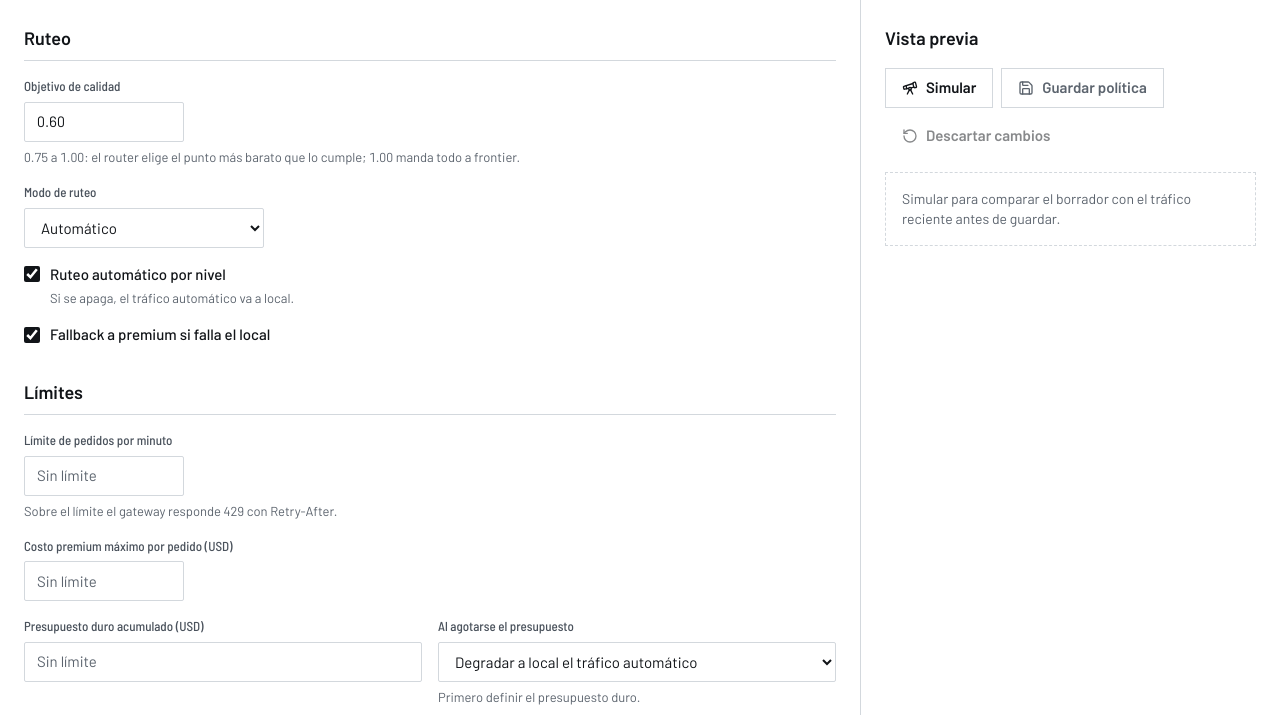
Test: policy-form › shows a stored target below the console's range as it is and blocks saving it
Expected: the field labelled "Objetivo de calidad" holds "0.60", [24,102,184,142]
Click the checkbox labelled "Fallback a premium si falla el local" at (32,335), box [24,327,40,343]
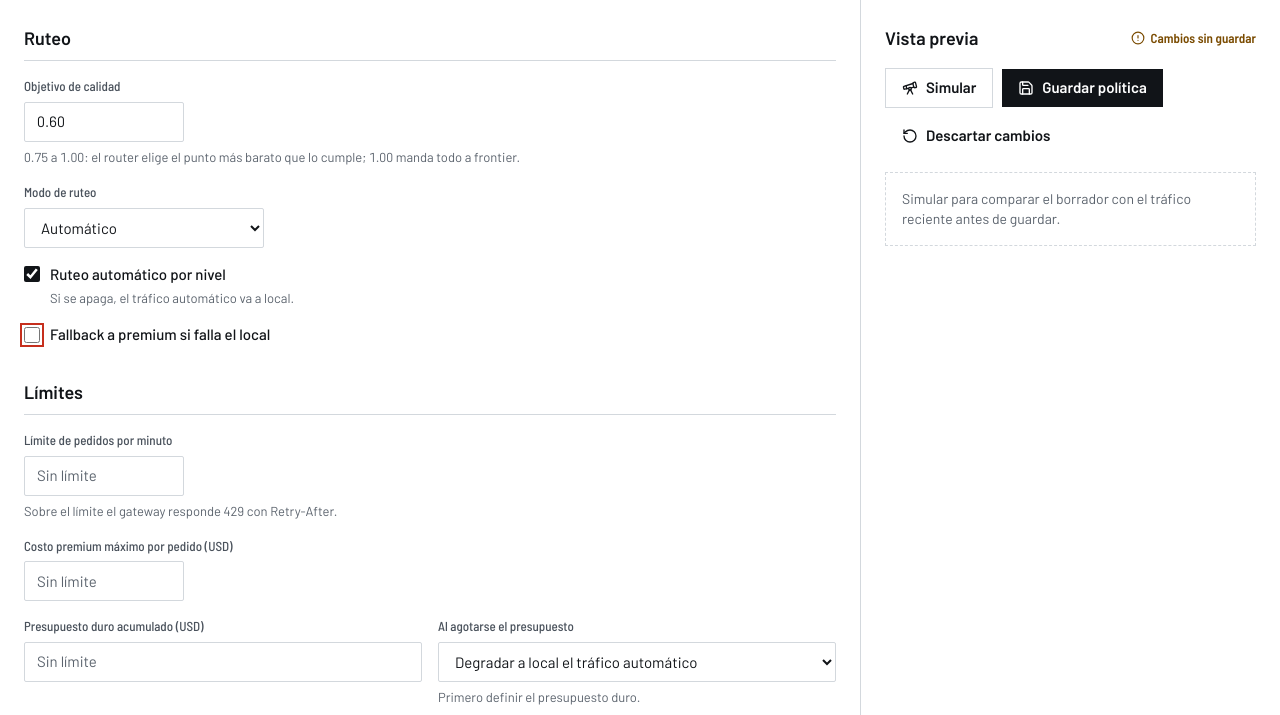
Click the button "Guardar política" at (1083,88), box [1001,68,1164,108]
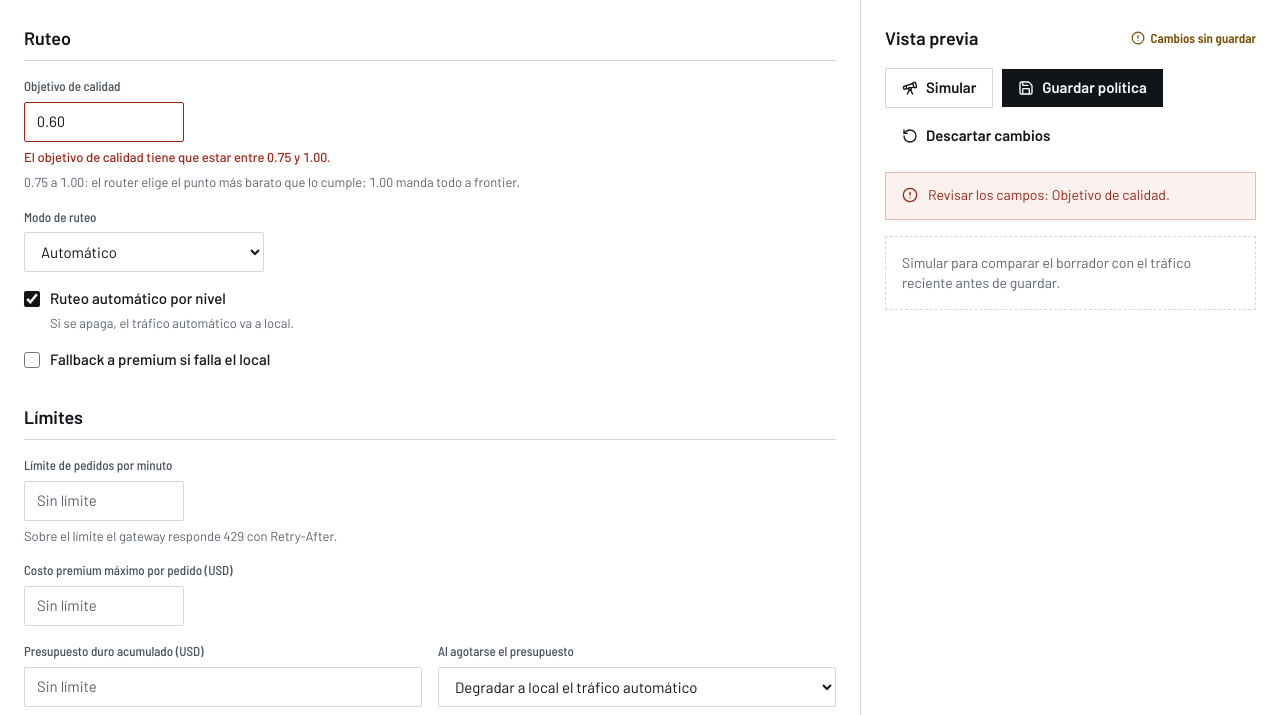
Expected: the text "El objetivo de calidad tiene que estar entre 0.75 y 1.00." is shown, [24,149,331,165]
